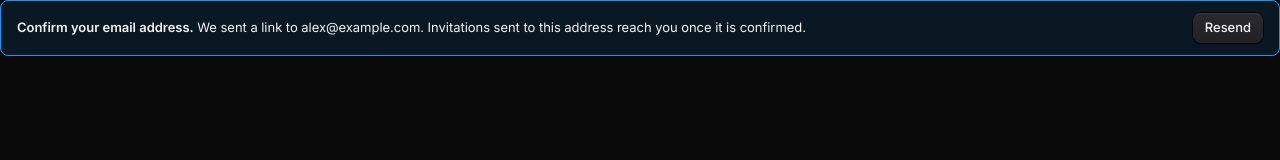
Test case: the notice › asks to confirm the address and sends the link again
Expected: the element "Confirm your email address" shows "alex@example.com", [301,19,420,35]
Click the button "Resend".
click(1228, 28)  # box [1193,13,1263,43]
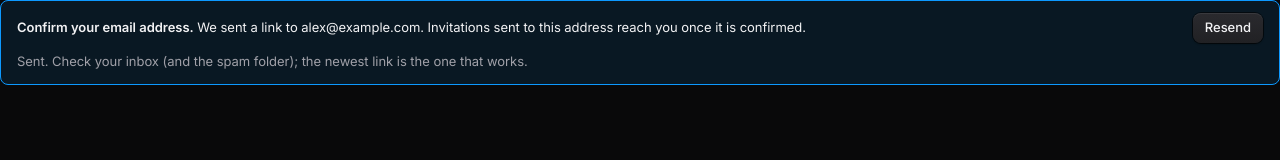
Expected: the message shows "Sent", [17,53,528,69]
